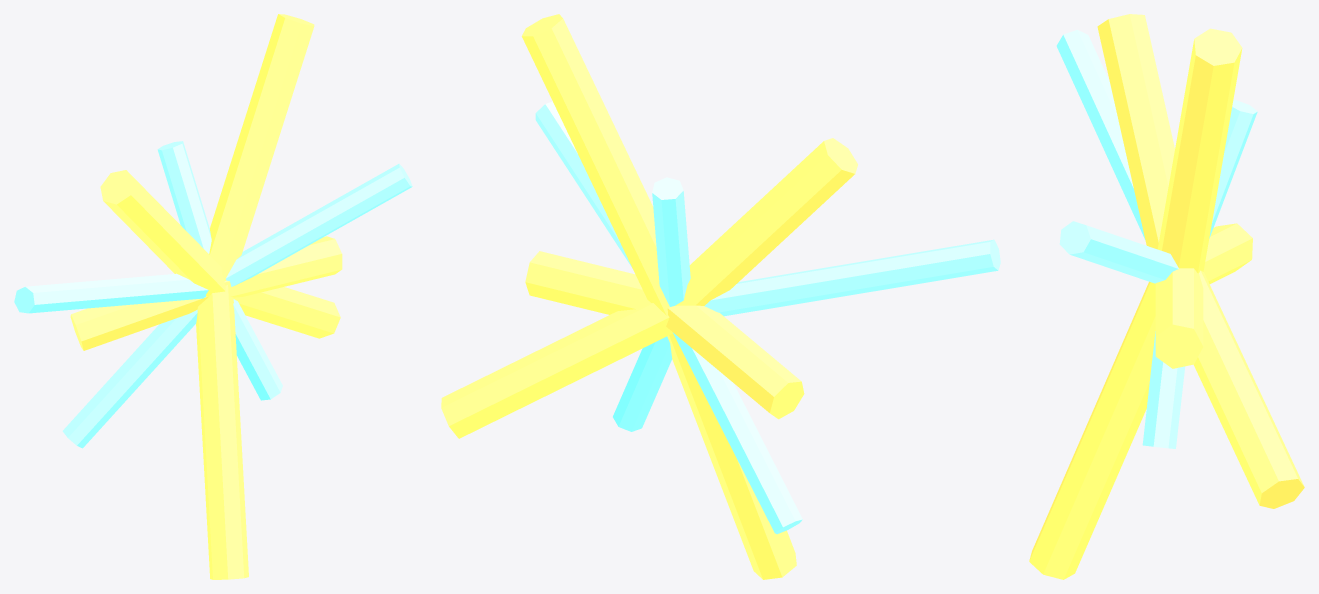
Rendered from sat_solar_connector_sparks.glb.
3 renders of one model, left to right at view 1: azimuth 30°, elevation 25°; view 2: azimuth 150°, elevation 25°; view 3: azimuth 270°, elevation 25°, orthographic. The views are drawn at different scales.
Visible parts, largest first — view 1: world; view 2: world; view 3: world.
Part boxes in pixels (bbox=[...]): world: bbox=[14, 14, 412, 579]; world: bbox=[441, 14, 1000, 579]; world: bbox=[1029, 14, 1304, 579].
Bounding box in the file's own units: 0.2971 × 0.3521 × 0.1426.
